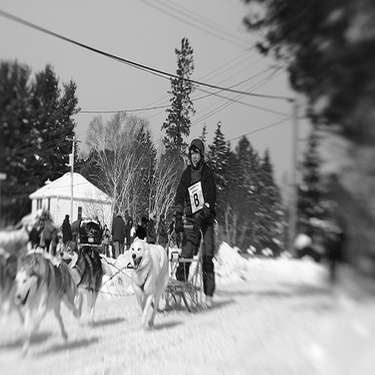dog: (11, 247, 77, 361), (118, 233, 172, 331), (55, 236, 104, 323), (1, 227, 30, 306), (24, 215, 46, 254)
